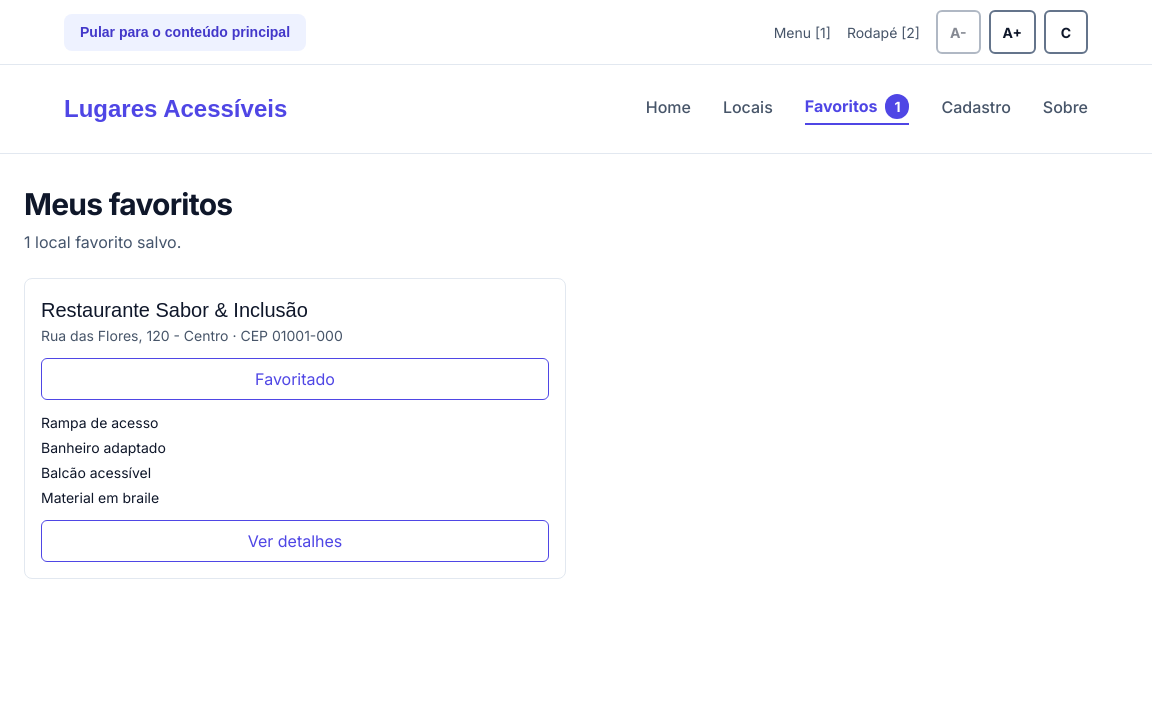
Test case: Contador de favoritos no Header › remove o último favorito uma única vez e preserva o foco no título
This screenshot has width=1152, height=720.
Click the button with aria-label "Remover dos favoritos" at (295, 379), box [41, 358, 549, 400]
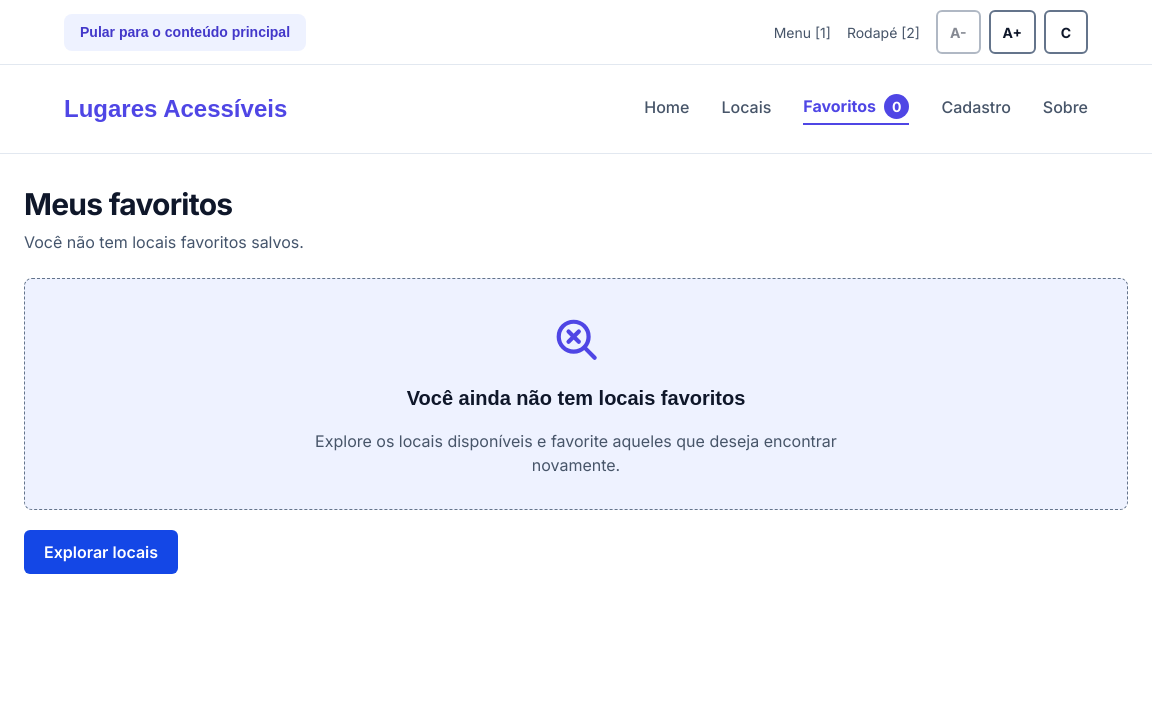
Expected: the heading "Você ainda não tem locais favoritos" is shown, [407, 383, 745, 413]
